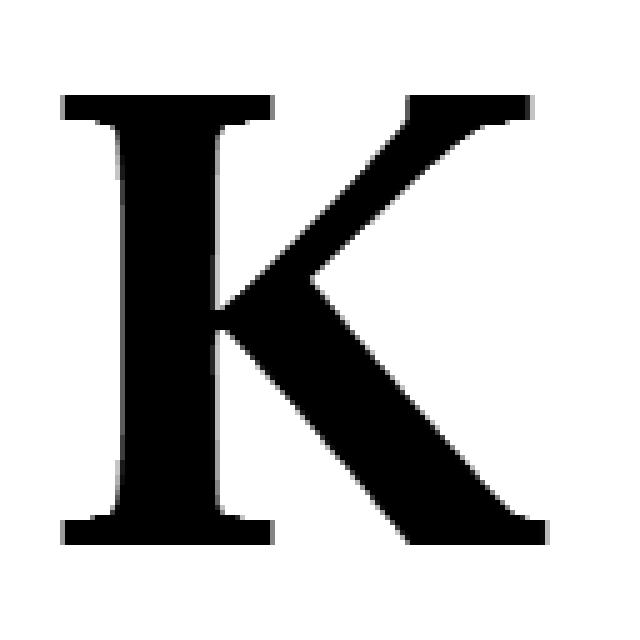K: (40, 83, 554, 550)
